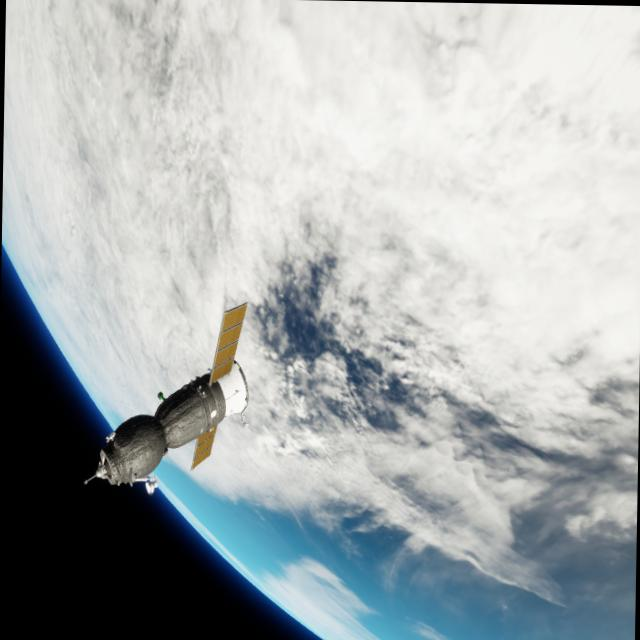Satellites revolving around earth: (81, 294, 254, 500)
